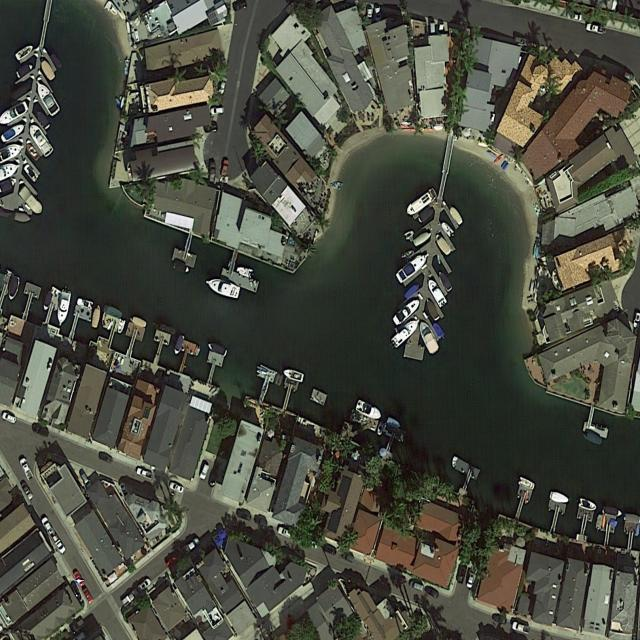large-vehicle: (120, 586, 140, 610)
ship: (395, 248, 432, 285), (32, 77, 61, 118), (405, 186, 439, 218), (391, 316, 422, 350), (28, 122, 55, 159), (392, 296, 422, 328), (205, 275, 241, 301), (0, 100, 30, 129), (417, 319, 440, 356), (18, 186, 45, 217), (355, 399, 385, 424), (0, 120, 27, 145), (54, 290, 72, 327), (426, 278, 448, 308), (23, 161, 41, 187), (38, 57, 56, 82), (434, 233, 452, 257), (425, 297, 441, 323), (437, 269, 454, 293), (6, 275, 21, 302), (282, 366, 305, 383), (413, 229, 433, 248), (549, 490, 571, 507), (448, 204, 464, 227), (15, 43, 34, 62), (25, 142, 42, 163), (583, 429, 603, 446), (207, 341, 228, 357), (36, 109, 51, 131), (418, 207, 436, 225), (578, 497, 598, 513), (103, 305, 124, 320), (16, 62, 34, 79), (404, 282, 421, 300), (173, 334, 186, 357), (49, 53, 64, 72), (91, 304, 102, 329), (518, 476, 536, 491), (237, 264, 256, 278), (42, 290, 54, 312), (602, 506, 623, 518), (13, 211, 32, 224), (432, 321, 445, 340), (76, 297, 94, 310), (440, 221, 454, 237), (173, 261, 190, 274), (132, 316, 148, 329), (386, 417, 402, 430), (117, 319, 126, 335), (403, 229, 415, 241), (376, 422, 385, 437), (493, 154, 504, 164), (451, 456, 459, 468), (332, 183, 341, 190), (333, 181, 343, 187), (402, 129, 416, 132)
small-vehicle: (49, 532, 67, 556), (182, 536, 201, 556), (19, 457, 34, 481), (585, 21, 607, 36), (512, 620, 532, 636), (40, 516, 55, 537), (32, 424, 51, 439), (20, 481, 34, 501), (425, 584, 441, 601), (456, 563, 468, 585), (465, 568, 477, 590), (322, 542, 339, 557), (137, 577, 152, 594), (72, 570, 86, 588), (207, 468, 219, 488), (492, 612, 508, 627), (217, 76, 229, 96), (82, 586, 94, 605), (98, 451, 114, 465), (136, 467, 153, 480), (2, 411, 17, 425), (340, 551, 356, 564), (208, 162, 217, 184), (199, 463, 210, 481), (278, 526, 292, 540), (169, 481, 184, 494), (220, 159, 230, 178), (409, 580, 424, 592), (209, 105, 225, 116), (237, 510, 252, 521), (374, 5, 383, 23), (204, 124, 218, 135), (365, 6, 374, 23), (514, 36, 529, 46), (570, 12, 583, 23)
